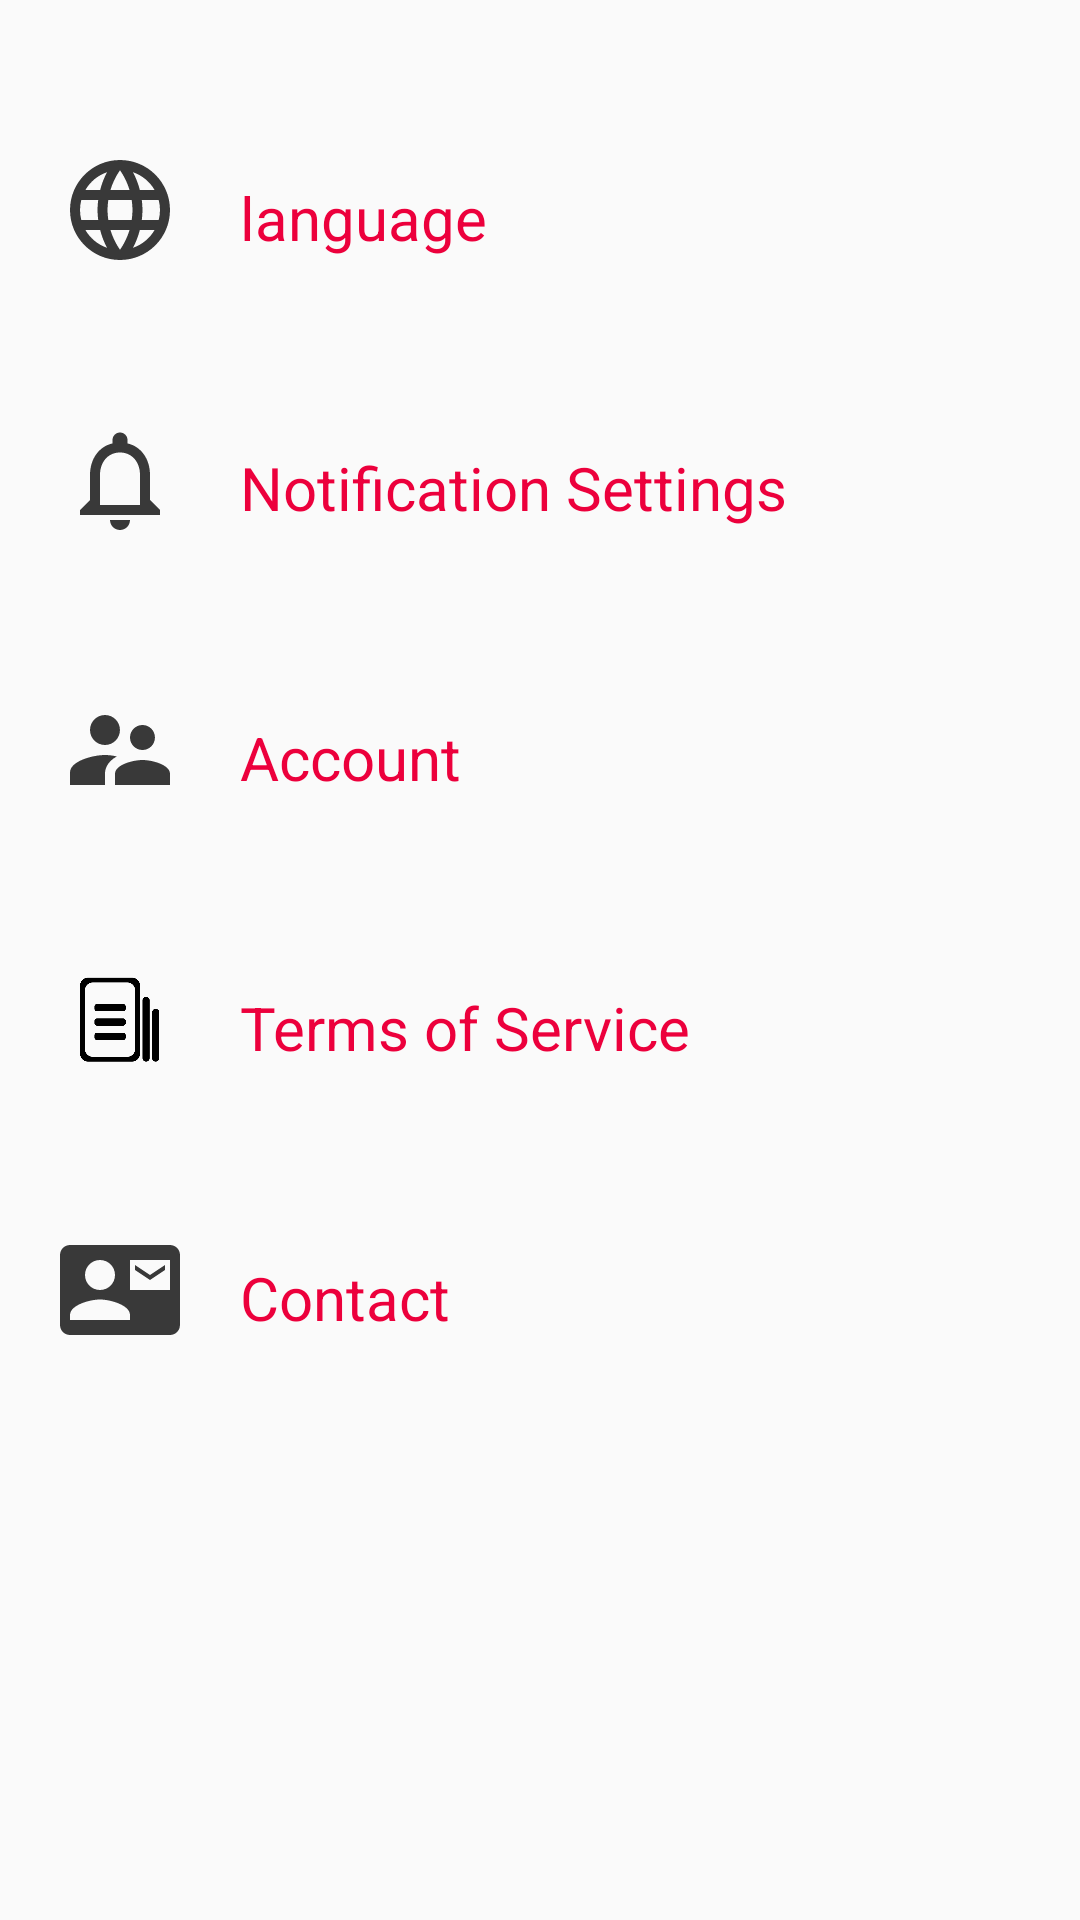

Screen size 1080x1920. Icon name, then its box in pixels as {"left": x1, "top": y1, "right": x2, "bottom": y2}:
notifications none: {"left": 80, "top": 432, "right": 160, "bottom": 530}
